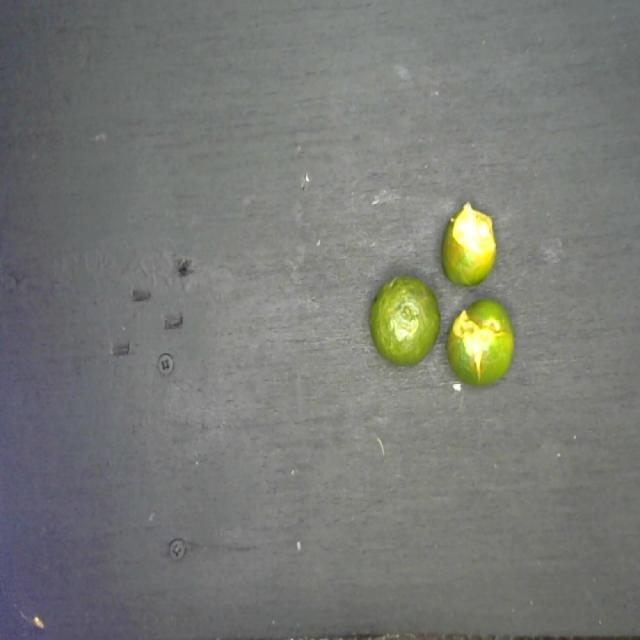biodegradable: (364, 199, 515, 392)
